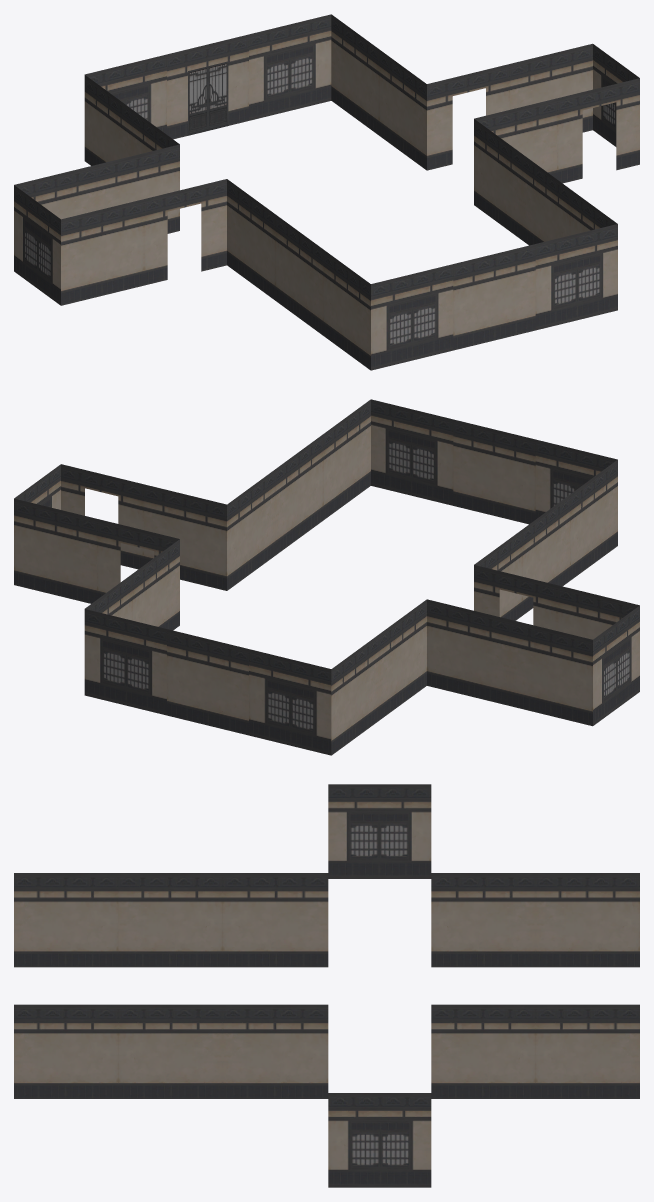
The model's file is Homeworld_Interior_Dq_Room_C_Filling_01_Vo.fbx.
3 views of the same model, one above another, from view 1: azimuth 30°, elevation 25°; view 2: azimuth 150°, elevation 25°; view 3: azimuth 270°, elevation 25° (orthographic). The views are drawn at different scales.
Visible parts, largest first — view 1: Homeworld_Interior_Dq_Room_C_Filling_01_Vo; view 2: Homeworld_Interior_Dq_Room_C_Filling_01_Vo; view 3: Homeworld_Interior_Dq_Room_C_Filling_01_Vo.
Part boxes in pixels (<box>): Homeworld_Interior_Dq_Room_C_Filling_01_Vo: <box>14,14,639,370</box>; Homeworld_Interior_Dq_Room_C_Filling_01_Vo: <box>14,399,639,755</box>; Homeworld_Interior_Dq_Room_C_Filling_01_Vo: <box>14,784,639,1187</box>.
Bounding box in the file's own units: 34.88 × 4.98 × 29.88.
